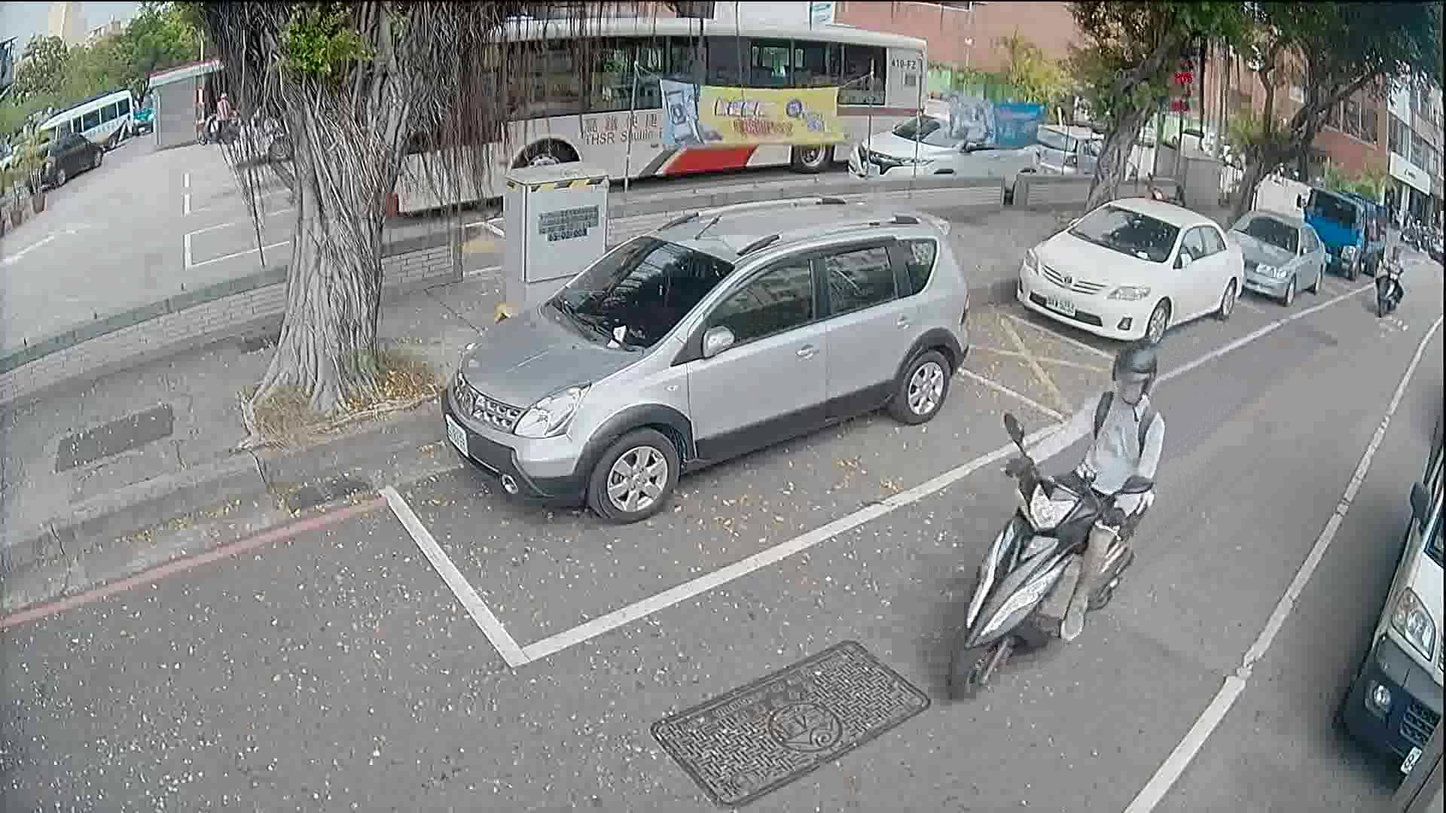person: (997, 337, 1165, 647), (1376, 242, 1403, 303), (208, 85, 232, 143)
